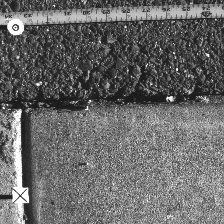circle: (6, 18, 24, 36)
crack: (1, 93, 223, 111)
square: (11, 187, 29, 204)
